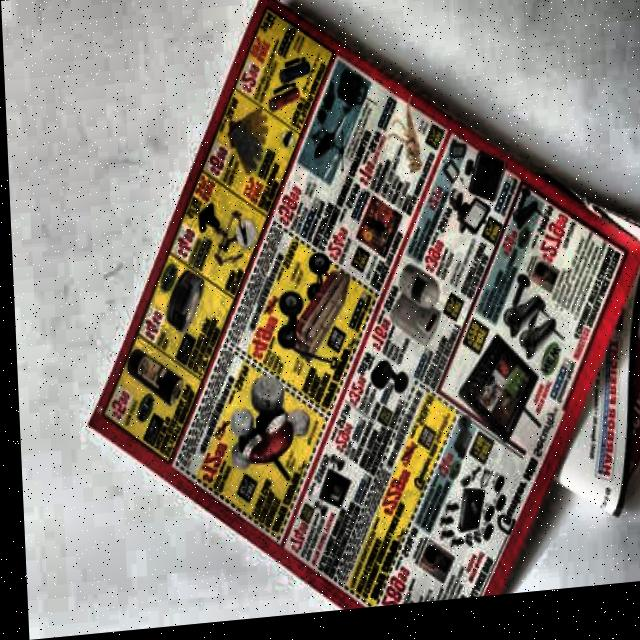paper: (66, 0, 640, 634)
